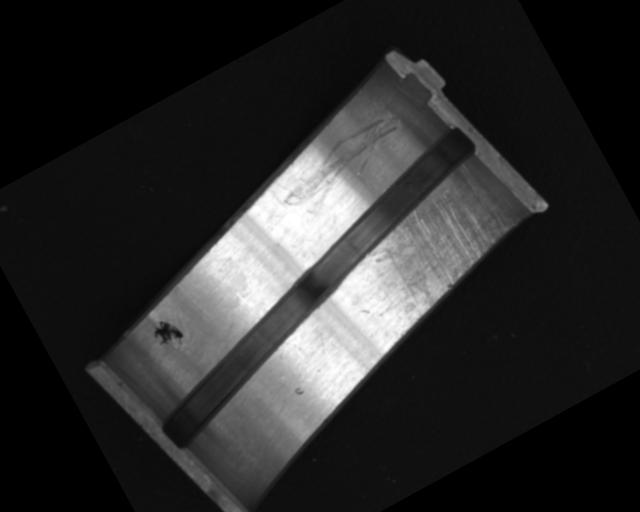blot: (147, 313, 187, 355)
bruise: (291, 383, 306, 398)
gap: (99, 123, 537, 456)
nick: (267, 108, 416, 223)
scratch: (332, 154, 538, 344)
